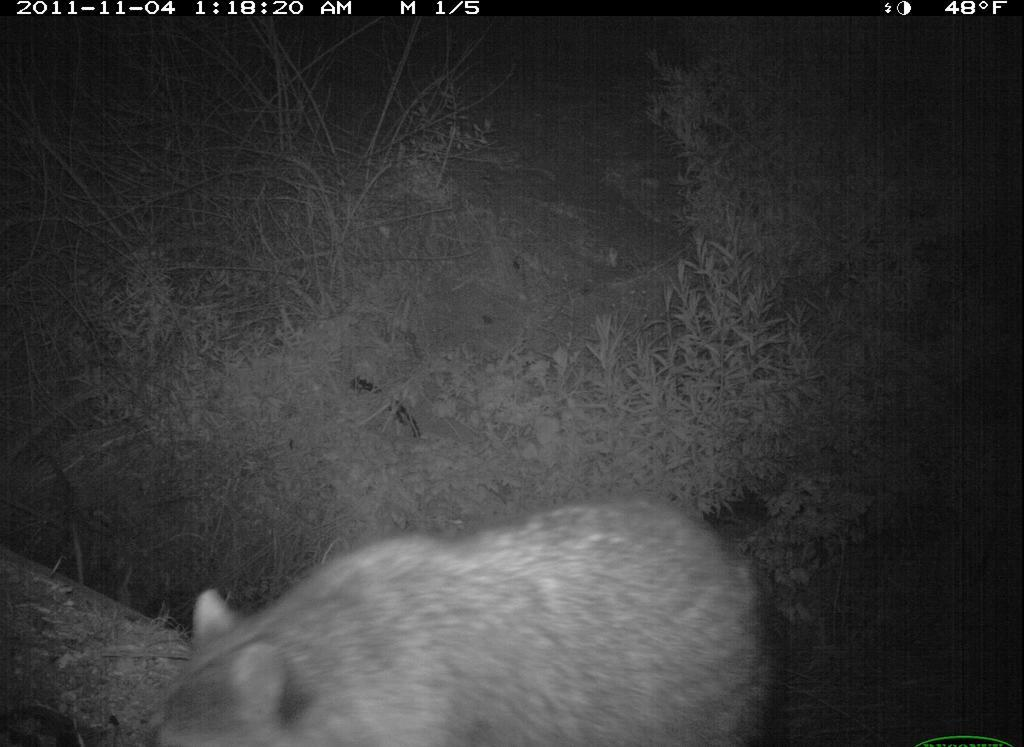raccoon: (150, 479, 795, 745)
